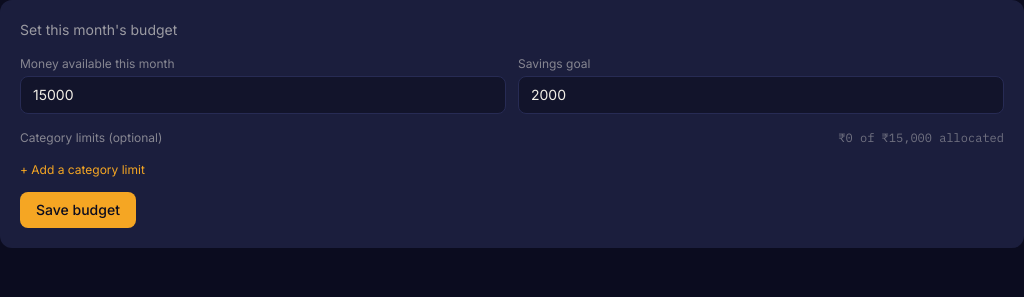
BudgetForm › refuses a savings target larger than income
This screenshot has width=1024, height=297.
Replace the text in the number field labelled "Savings goal" with "99999" at point(761, 95), box [518, 76, 1004, 114]
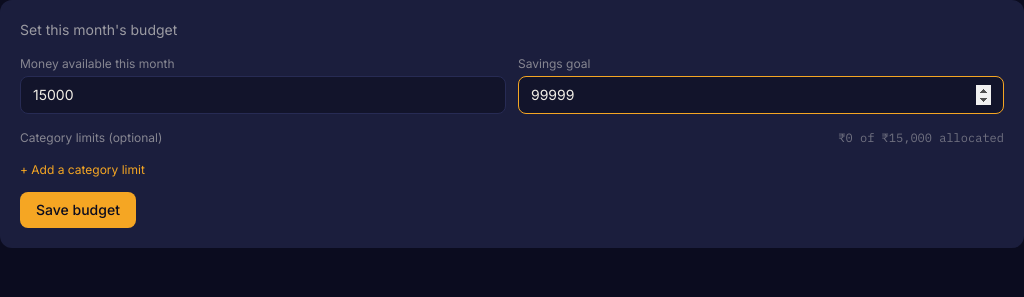
Click the button "Save budget" at point(78, 210), box [20, 192, 136, 228]
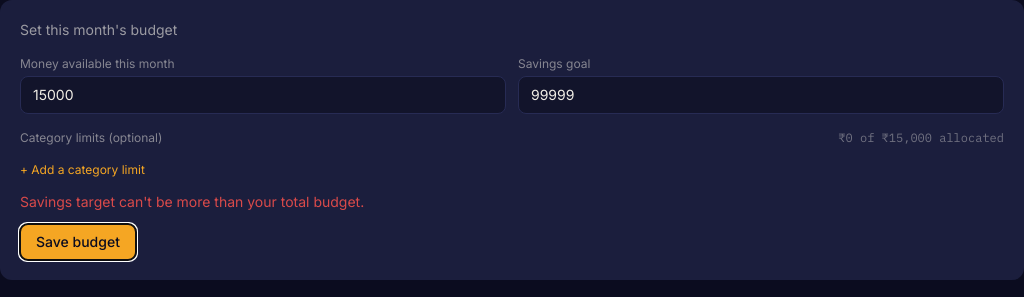
Now the message shows "Savings", box [20, 193, 364, 210]
